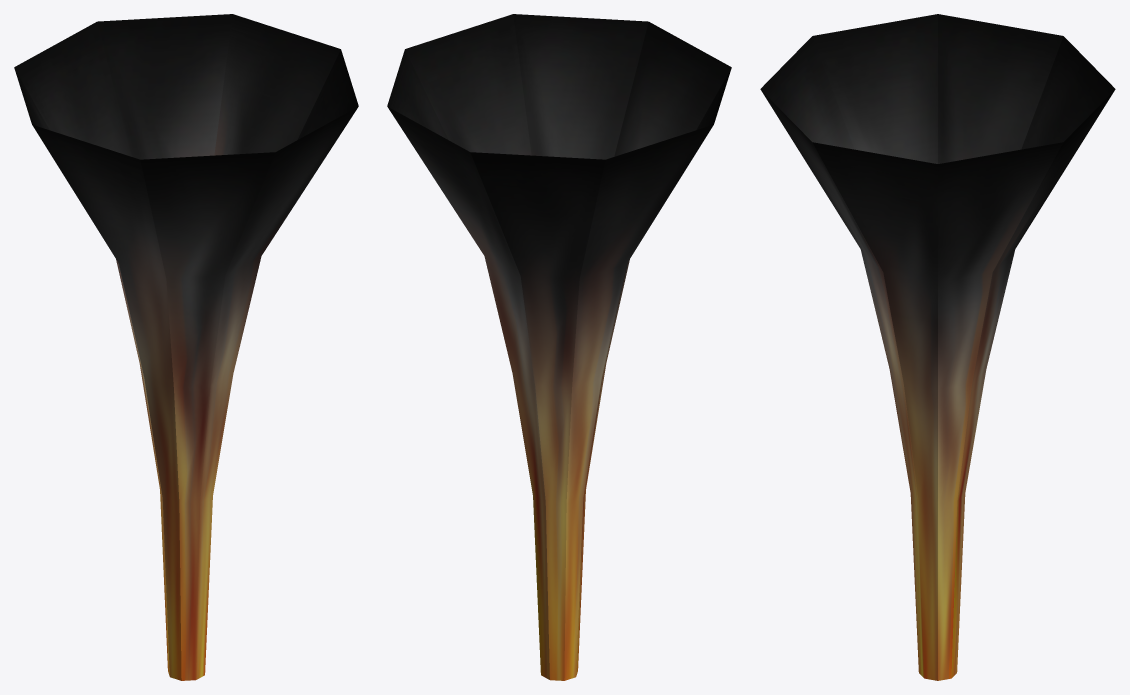
The model's file is eng_plumes_05.fbx.
3 renders of one model, left to right at view 1: azimuth 30°, elevation 25°; view 2: azimuth 150°, elevation 25°; view 3: azimuth 270°, elevation 25°, orthographic.
Parts seen in each view (by area): view 1: eng_plume_05; view 2: eng_plume_05; view 3: eng_plume_05.
Part boxes in pixels (x1=…): eng_plume_05: x1=14, y1=14, x2=358, y2=680; eng_plume_05: x1=387, y1=14, x2=731, y2=680; eng_plume_05: x1=760, y1=14, x2=1115, y2=680.
Size of the model in its own units: 6.57 by 11.91 by 6.57.
